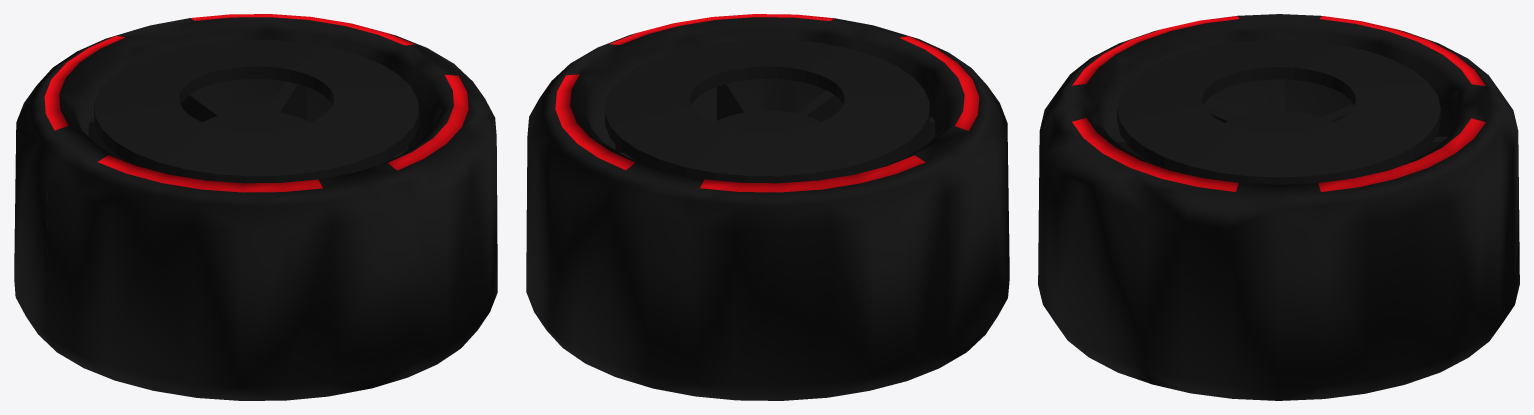
Rendered from wheel.dae.
3 views of the same model, side by side, from view 1: azimuth 30°, elevation 25°; view 2: azimuth 150°, elevation 25°; view 3: azimuth 270°, elevation 25° (orthographic).
Visible parts, largest first — view 1: RL_Tire; view 2: RL_Tire; view 3: RL_Tire.
Part boxes in pixels (left/top/right/bottom): RL_Tire: left=14, top=14, right=497, bottom=400; RL_Tire: left=526, top=14, right=1009, bottom=400; RL_Tire: left=1038, top=14, right=1519, bottom=400.
Size of the model in its own units: 1.84 by 1.84 by 0.8798.
